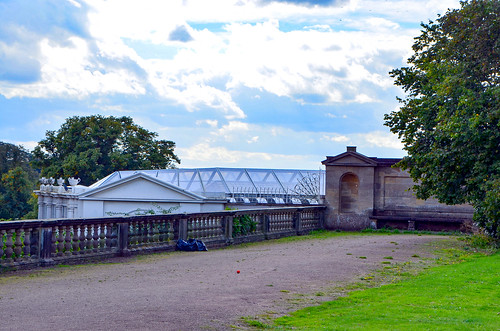building: (41, 168, 324, 230)
grass: (297, 255, 499, 327)
sky: (1, 1, 500, 155)
tree: (401, 1, 497, 231), (6, 115, 177, 200)
